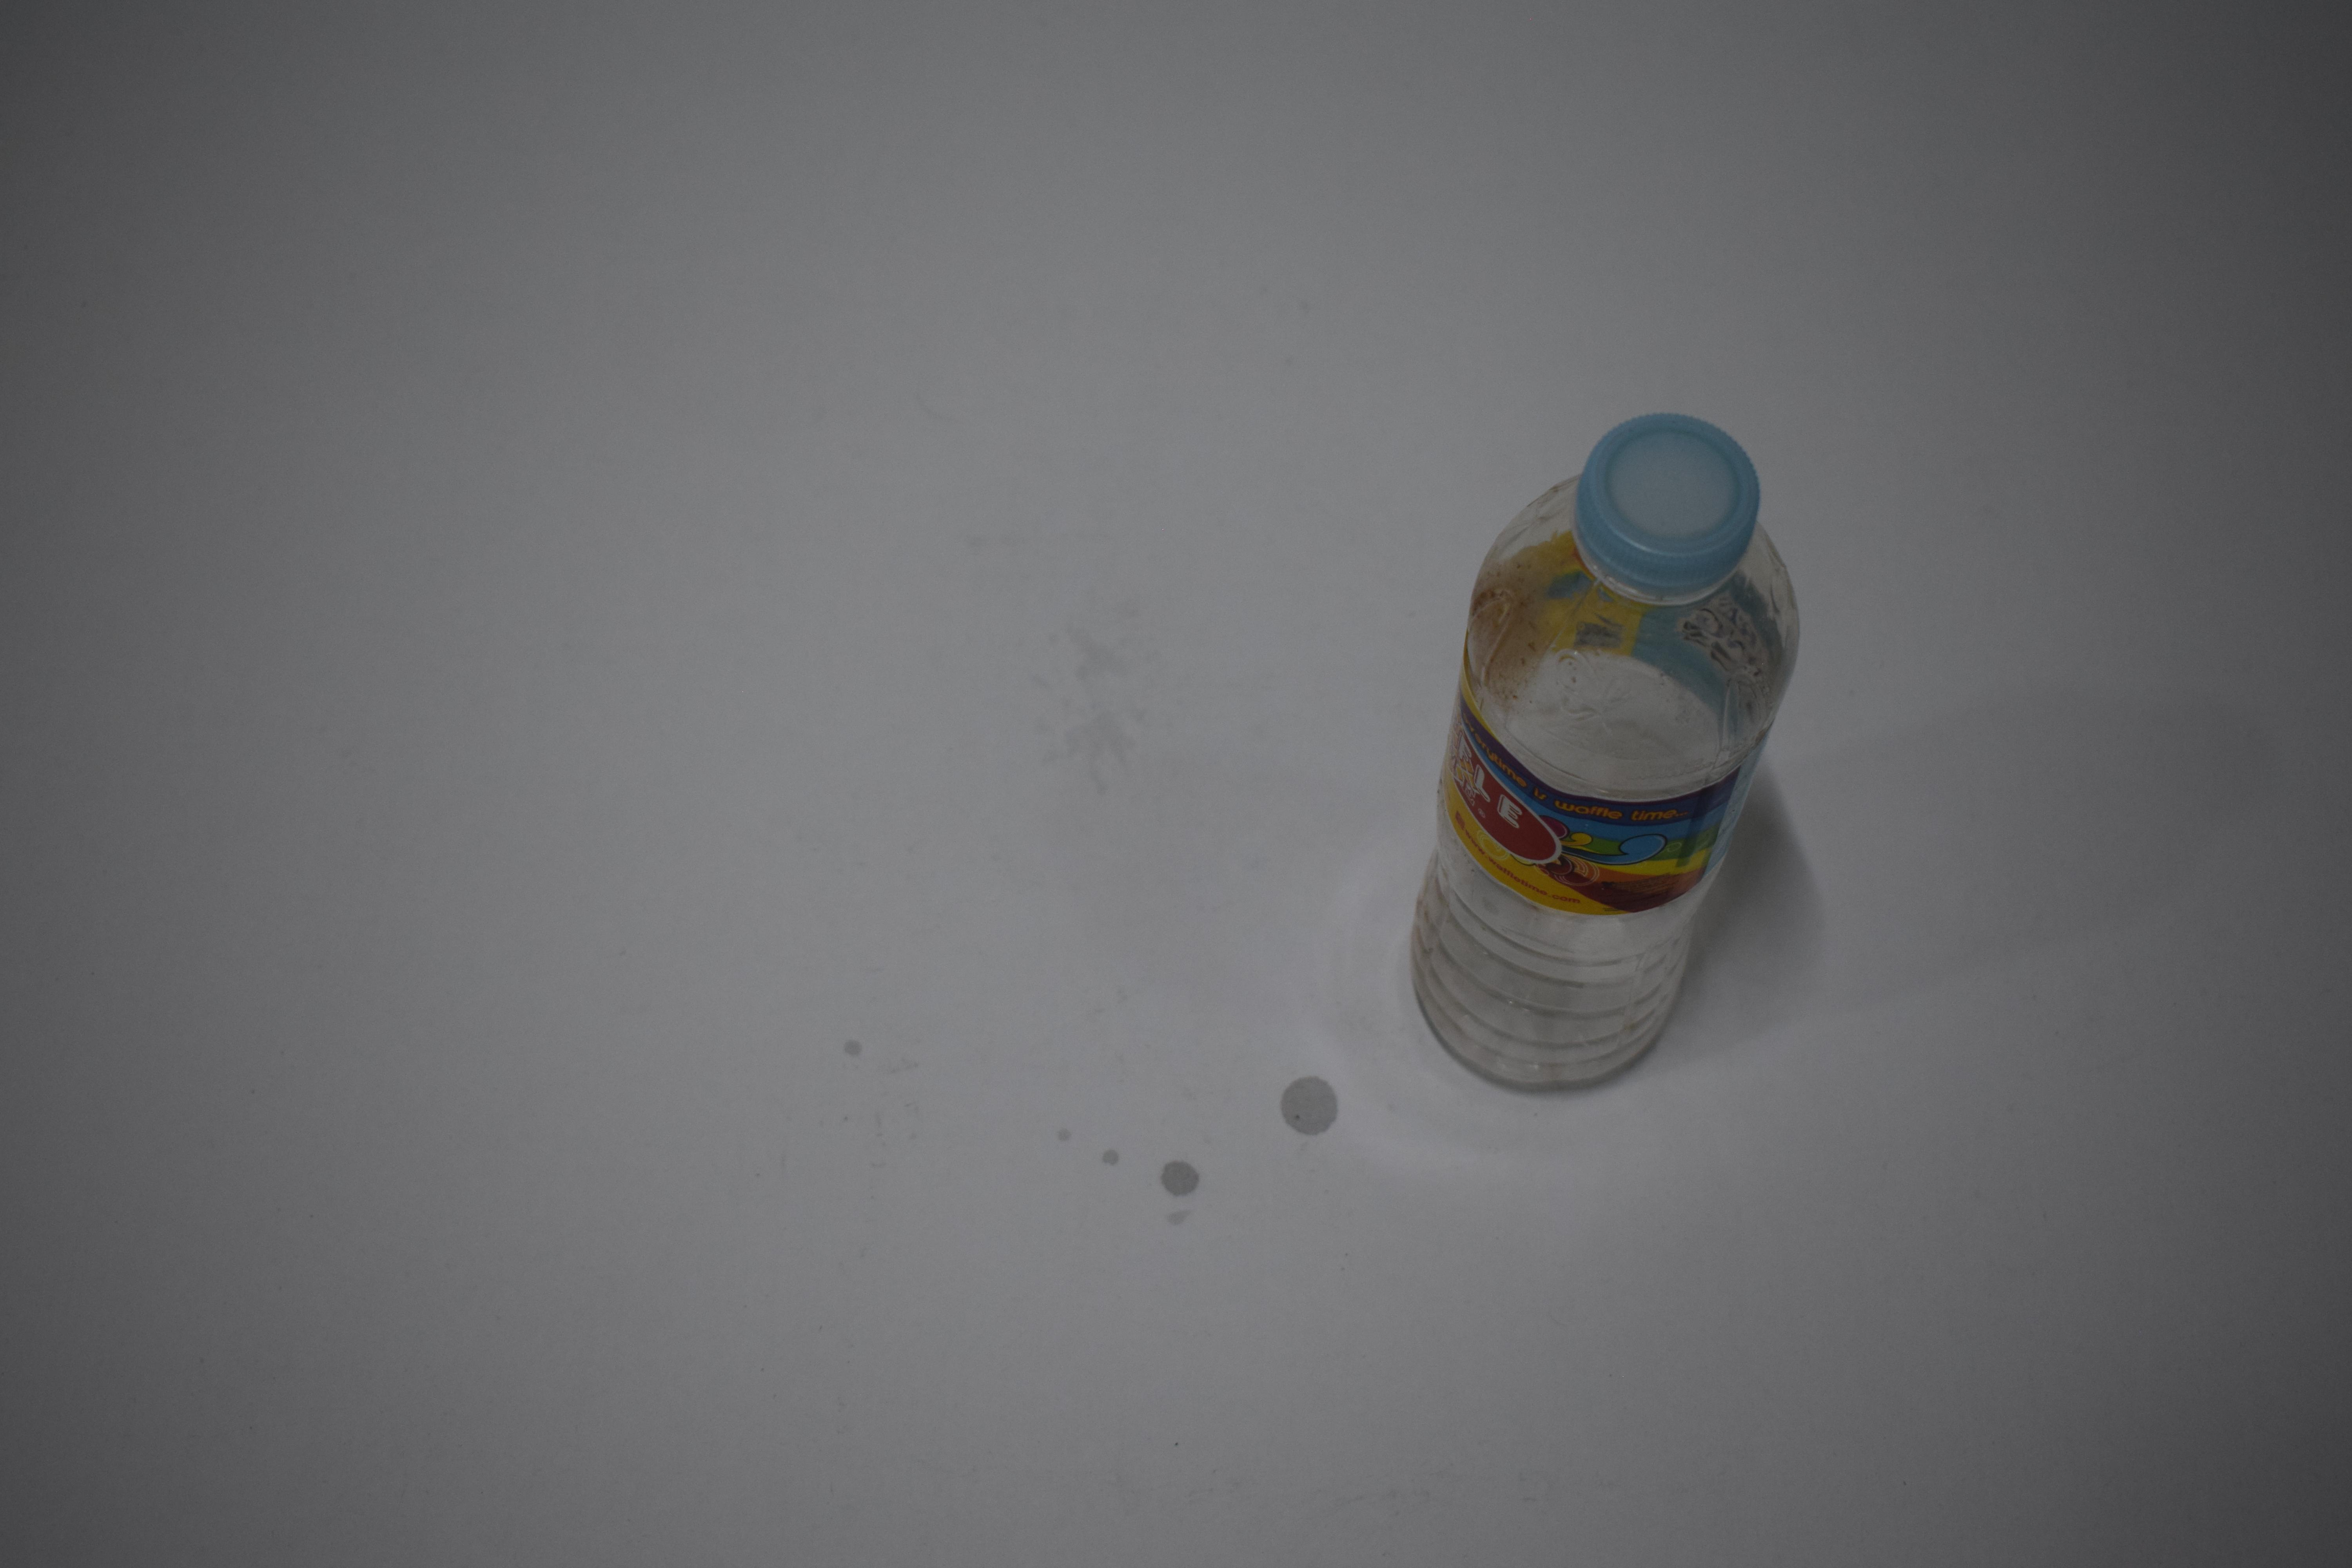bottle: (1402, 404, 1806, 1097)
